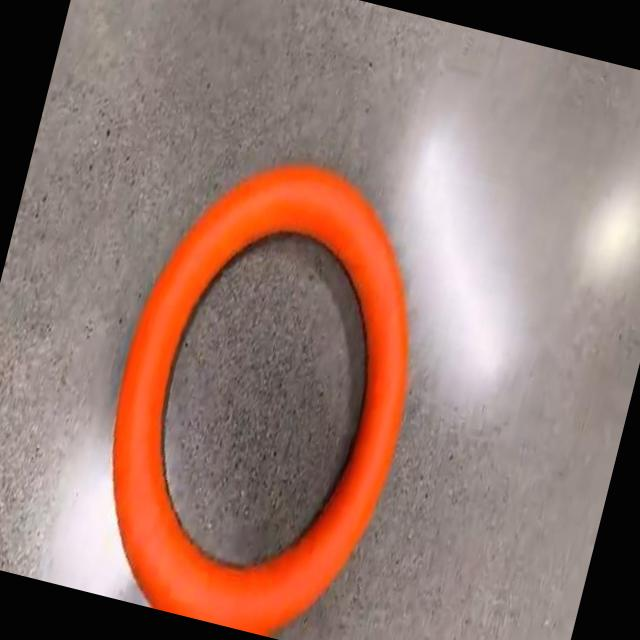note: (114, 165, 407, 633)
